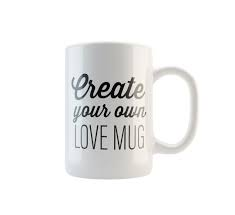mug: (53, 30, 201, 196)
